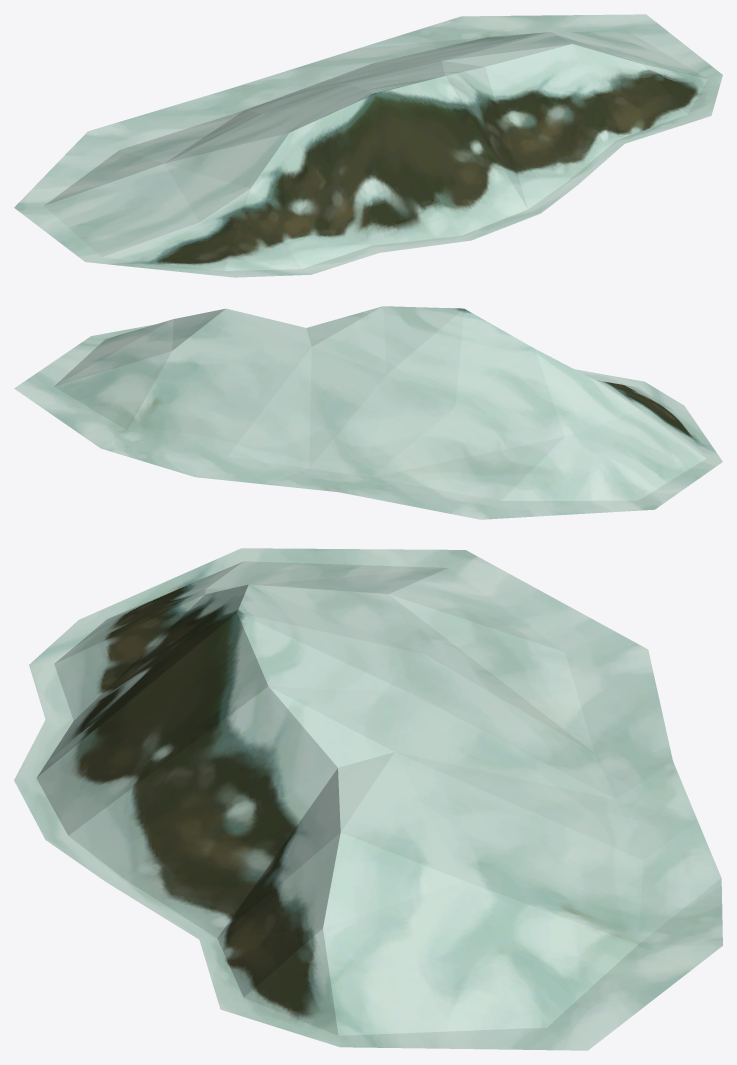
File: miniberm_03.fbx
3 views of the same model, one above another, from view 1: azimuth 30°, elevation 25°; view 2: azimuth 150°, elevation 25°; view 3: azimuth 270°, elevation 25° (orthographic). The views are drawn at different scales.
Parts seen in each view (by area): view 1: obj0.027; view 2: obj0.027; view 3: obj0.027.
Part boxes in pixels (bbox=[...]): obj0.027: bbox=[14, 14, 722, 277]; obj0.027: bbox=[14, 306, 722, 519]; obj0.027: bbox=[14, 548, 722, 1050].
Bounding box in the file's own units: 16.61 × 2.48 × 9.91.
